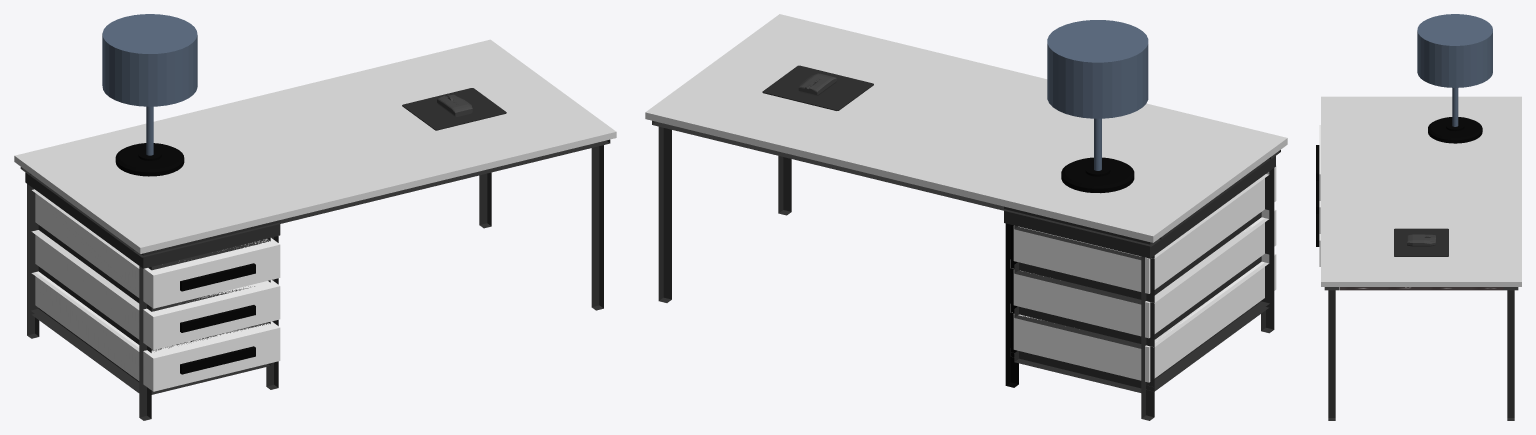
File: desk3.glb
The picture shows the model from 3 angles, left to right: view 1: azimuth 30°, elevation 25°; view 2: azimuth 150°, elevation 25°; view 3: azimuth 270°, elevation 25°; orthographic projection. The views are drawn at different scales.
Parts seen in each view (by area): view 1: DeskPlate, Lamp, DeskDrawer.002, DeskDrawer.001, DeskDrawer, Cube.034, Cube.033, Cube.005, MousePad, Cube.002, Cube.008, Cube.024 (+2 smaller); view 2: DeskPlate, Lamp, DeskDrawer.002, DeskDrawer, DeskDrawer.001, Cube.034, Cube.033, Cube.006, MousePad, Cube.003, Cube.007, Cube.013 (+7 smaller); view 3: DeskPlate, Lamp, MousePad, Cube.005, Cube.006, Cube.004, Mouse, DeskDrawer.
Boxes of the visible parts, x1=… form: DeskPlate: x1=14, y1=39, x2=616, y2=253; Lamp: x1=102, y1=14, x2=197, y2=176; DeskDrawer.002: x1=35, y1=271, x2=280, y2=391; DeskDrawer.001: x1=35, y1=235, x2=280, y2=350; DeskDrawer: x1=35, y1=193, x2=280, y2=308; Cube.034: x1=25, y1=172, x2=280, y2=268; Cube.033: x1=30, y1=186, x2=139, y2=389; Cube.005: x1=591, y1=141, x2=603, y2=310; MousePad: x1=402, y1=88, x2=506, y2=130; Cube.002: x1=133, y1=139, x2=610, y2=257; Cube.008: x1=139, y1=266, x2=151, y2=420; Cube.024: x1=31, y1=230, x2=139, y2=309; DeskPlate: x1=645, y1=14, x2=1287, y2=242; Lamp: x1=1047, y1=20, x2=1148, y2=193; DeskDrawer.002: x1=1013, y1=254, x2=1276, y2=382; DeskDrawer: x1=1013, y1=166, x2=1276, y2=293; DeskDrawer.001: x1=1013, y1=209, x2=1276, y2=338; Cube.034: x1=1004, y1=156, x2=1275, y2=258; Cube.033: x1=1146, y1=171, x2=1270, y2=387; Cube.006: x1=658, y1=123, x2=671, y2=302; MousePad: x1=762, y1=65, x2=873, y2=110; Cube.003: x1=652, y1=120, x2=1161, y2=246; Cube.007: x1=1141, y1=255, x2=1154, y2=420; Cube.013: x1=1014, y1=351, x2=1141, y2=392; DeskPlate: x1=1321, y1=96, x2=1521, y2=286; Lamp: x1=1417, y1=14, x2=1492, y2=143; MousePad: x1=1394, y1=228, x2=1448, y2=256; Cube.005: x1=1328, y1=290, x2=1335, y2=420; Cube.006: x1=1507, y1=290, x2=1514, y2=420; Cube.004: x1=1339, y1=287, x2=1503, y2=290; Mouse: x1=1407, y1=234, x2=1435, y2=246; DeskDrawer: x1=1316, y1=125, x2=1320, y2=200.
Size of the model in its own units: 1.2 by 0.7411 by 0.5635.
11 materials, 1 textured.
